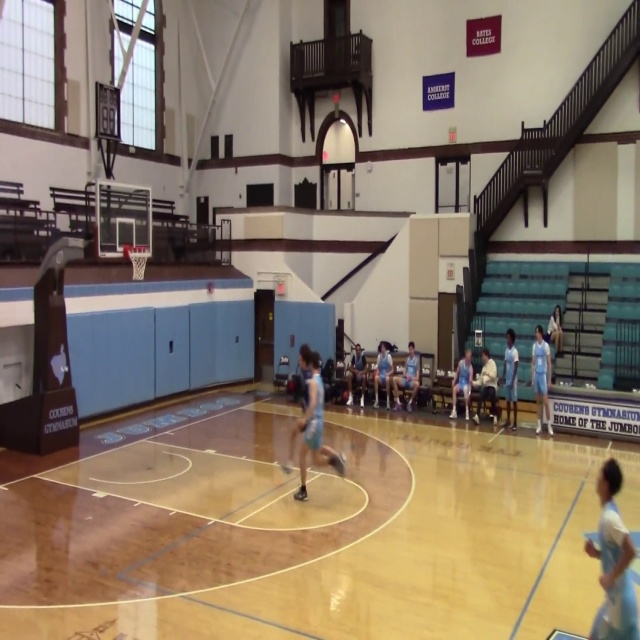Basketball: (584, 539, 600, 558)
